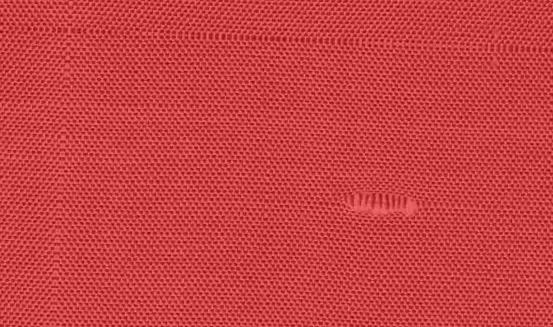slub: (339, 182, 429, 226)
